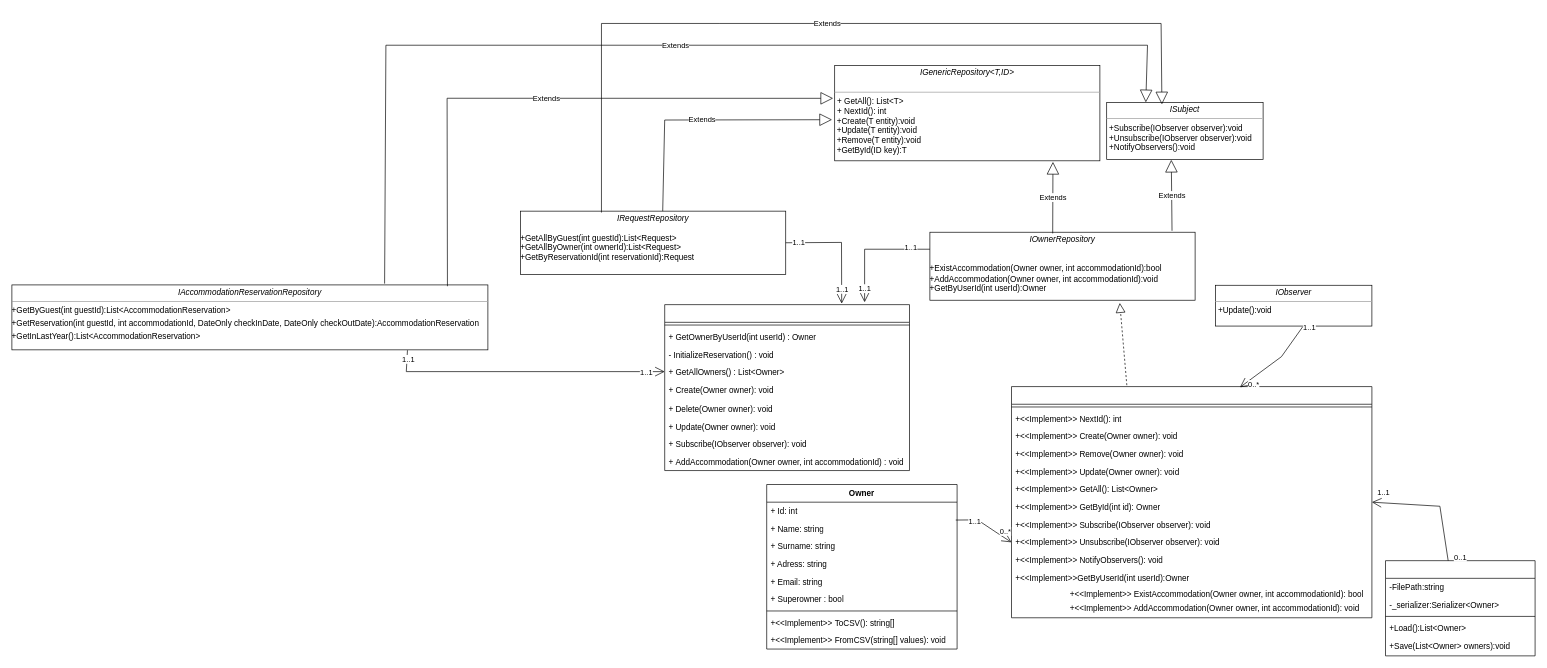
This 1547x668 diagram has some shape labels left out. Each missing label, with the box of its shape:
OwnerFileHandler: (1385, 560, 1535, 656)
OwnerRepository: (1011, 386, 1372, 618)
OwnerService: (664, 304, 910, 471)
